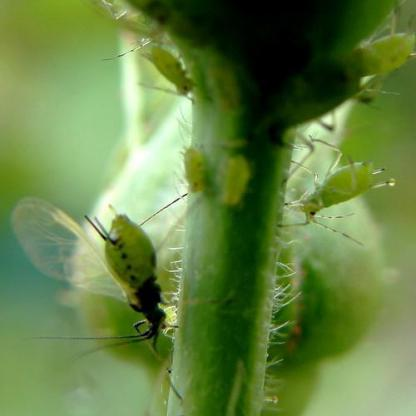aphid: (0, 179, 178, 368), (288, 126, 394, 227), (108, 28, 208, 104), (330, 25, 416, 101), (216, 143, 257, 215), (178, 144, 215, 203)
